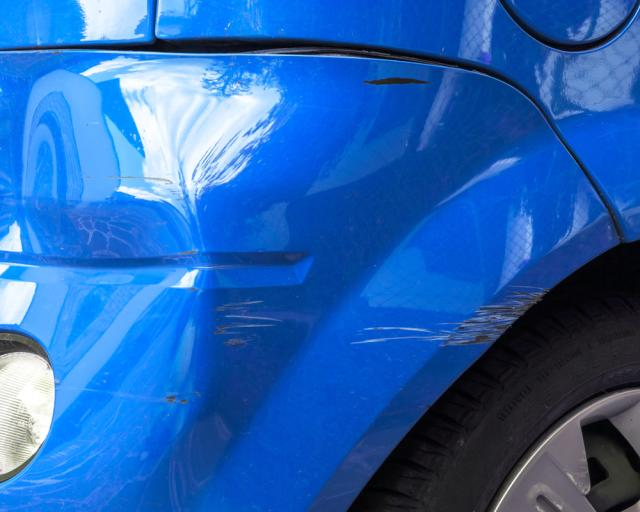dent: (0, 198, 211, 479)
scratch: (348, 282, 552, 351), (214, 296, 284, 350), (105, 171, 187, 205), (358, 74, 436, 84)
